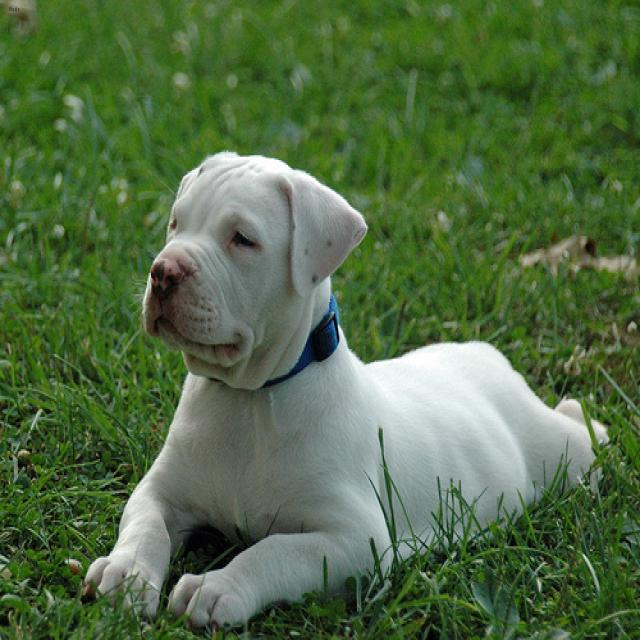dog-american_bulldog: (70, 141, 617, 637)
